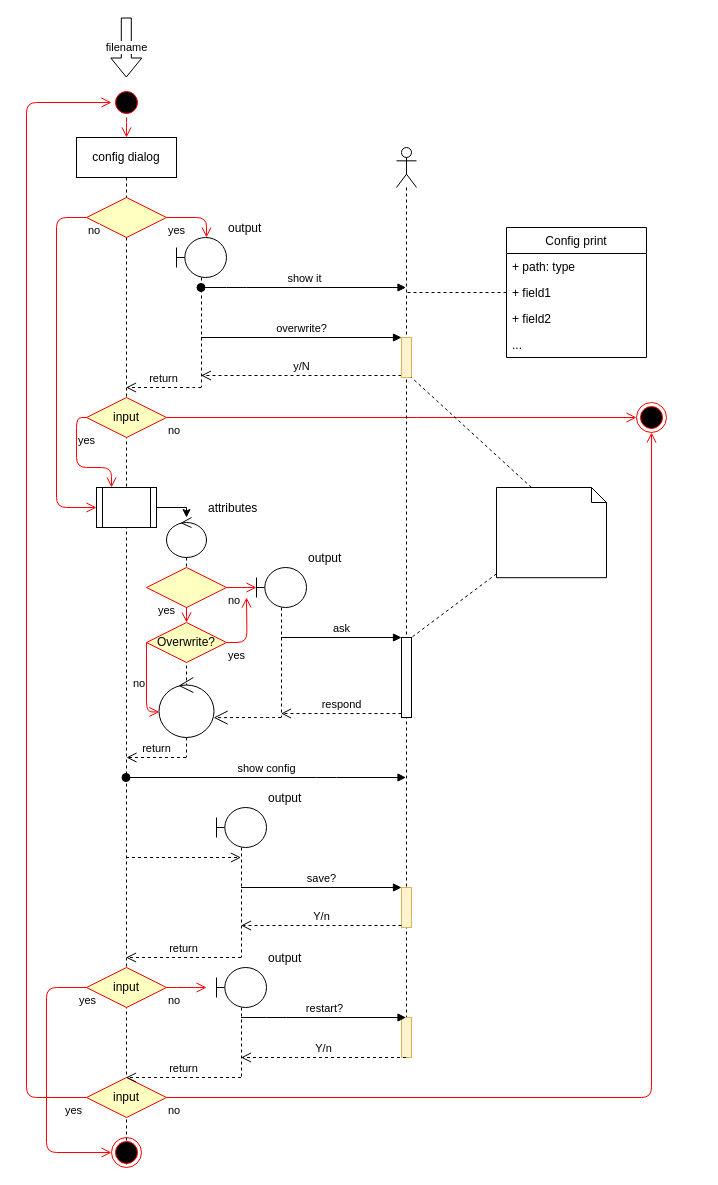
Some shapes in this 718 by 1185 pixel diagram are drawn without their labels. The centre of each missing label's shape, as x and y in pixels:
Attribute filled?: (186,587)
File exists?: (126,217)
If overwrite=yes - suggest default value from config: (551,532)
next or end: (186,707)
Process config: (126,507)
quit without saving: (651,417)
